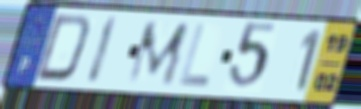1: (294, 28, 322, 96)
5: (226, 20, 280, 96)
D: (32, 13, 94, 85)
I: (84, 13, 121, 87)
L: (175, 22, 213, 89)
M: (124, 20, 193, 88)
